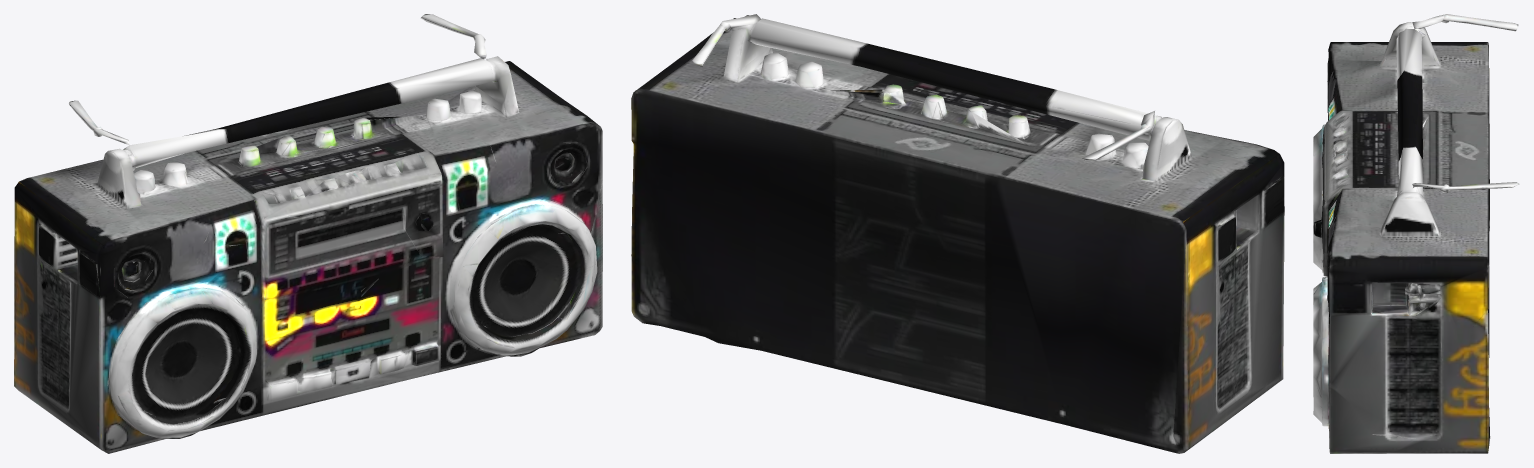
File: boombox.glb
The picture shows the model from 3 angles, left to right: view 1: azimuth 30°, elevation 25°; view 2: azimuth 150°, elevation 25°; view 3: azimuth 270°, elevation 25°; orthographic projection. The views are drawn at different scales.
Visible parts, largest first — view 1: Mesh1.0; view 2: Mesh1.0; view 3: Mesh1.0.
Boxes of the visible parts, x1,y1,x2,y2 form: Mesh1.0: (14, 14, 602, 453); Mesh1.0: (631, 14, 1284, 453); Mesh1.0: (1313, 14, 1519, 453).
Size of the model in its own units: 1.92 by 0.9795 by 0.7388.
1 material, 1 textured.
